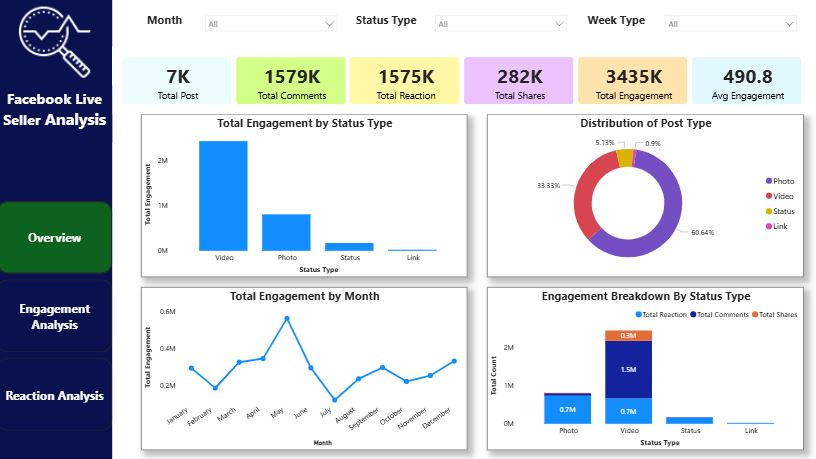

What the dashboard file says about the page in this screenshot:
{"tool":"powerbi","page":{"name":"Overview","canvas":[1366,768],"ordinal":0},"visuals":[{"type":"shape","box":[0,0,192,768],"z":0},{"type":"slicer","fields":{"Values":["Live.status_type"]},"box":[720,16,240,48],"z":1000},{"type":"slicer","fields":{"Values":["Live.Week Type"]},"box":[1104,16,240,48],"z":2000},{"type":"textbox","box":[224,16,112,48],"z":3000},{"type":"textbox","box":[960,16,144,48],"z":4000},{"type":"textbox","box":[576,16,144,48],"z":5000},{"type":"clusteredColumnChart","title":"Total Engagement by Status Type","fields":{"Category":["Live.status_type"],"Y":["Live.Total Enagegment"]},"box":[240,192,544,272],"z":6000},{"type":"donutChart","title":"Distribution of Post Type","fields":{"Category":["Live.status_type"],"Y":["Live.Total Post"]},"box":[816,192,528,272],"z":7000},{"type":"lineChart","title":"Total Engagement by Month","fields":{"Category":["Live.Month"],"Y":["Live.Total Enagegment"]},"box":[240,480,544,272],"z":8000},{"type":"columnChart","title":"Engagement Breakdown By Status Type","fields":{"Category":["Live.status_type"],"Y":["Live.Total Reaction","Live.Total Comments","Live.Total Shares"]},"box":[816,480,528,272],"z":9000},{"type":"slicer","fields":{"Values":["DateTable.Month"]},"box":[336,16,240,48],"z":10000},{"type":"cardVisual","fields":{"Data":["Live.Total Post","Live.Total Comments","Live.Total Reaction","Live.Total Shares","Live.Total Enagegment","Live.Avg Engagement"]},"box":[192,80,1168,112],"z":11000},{"type":"textbox","box":[0,144,192,96],"z":12000},{"type":"pageNavigator","box":[0,336,192,384],"z":13000},{"type":"image","box":[0,0,192,144],"z":14000}]}

Visuals, with their boxes in screenshot pixels (x1, y1, x2, y2), scaled from the page's 1366x768 canvas onto the 816x459 screenshot:
shape: crop(0, 0, 115, 458)
slicer - Live.status_type: crop(430, 10, 573, 38)
slicer - Live.Week Type: crop(659, 10, 803, 38)
textbox: crop(134, 10, 201, 38)
textbox: crop(573, 10, 659, 38)
textbox: crop(344, 10, 430, 38)
"Total Engagement by Status Type" clusteredColumnChart: crop(143, 115, 468, 277)
"Distribution of Post Type" donutChart: crop(487, 115, 803, 277)
"Total Engagement by Month" lineChart: crop(143, 287, 468, 449)
"Engagement Breakdown By Status Type" columnChart: crop(487, 287, 803, 449)
slicer - DateTable.Month: crop(201, 10, 344, 38)
cardVisual - Live.Total Post x Live.Total Comments: crop(115, 48, 812, 115)
textbox: crop(0, 86, 115, 143)
pageNavigator: crop(0, 201, 115, 430)
image: crop(0, 0, 115, 86)
